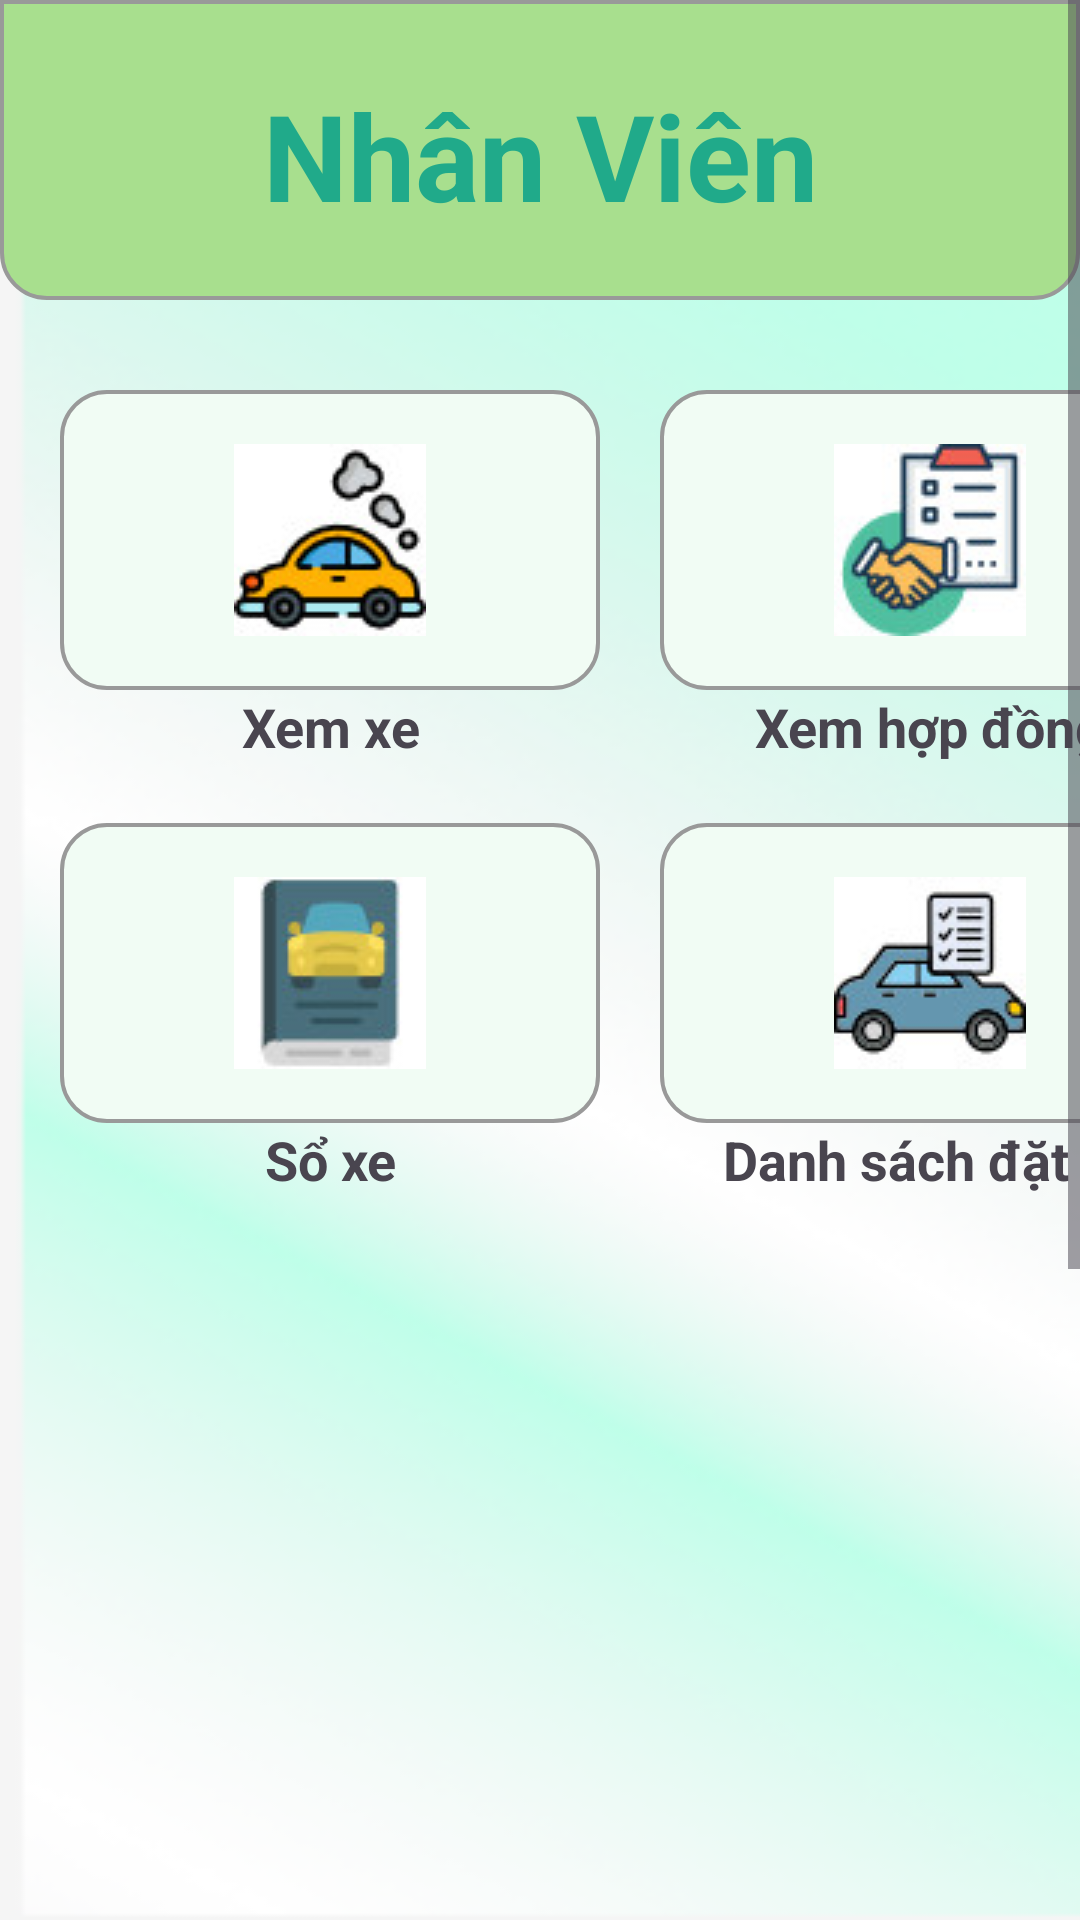

Where icons sit on this 1080 × 1920 app screen, as (x1, y1, x2, y2):
soxe: (260, 879, 400, 1065)
